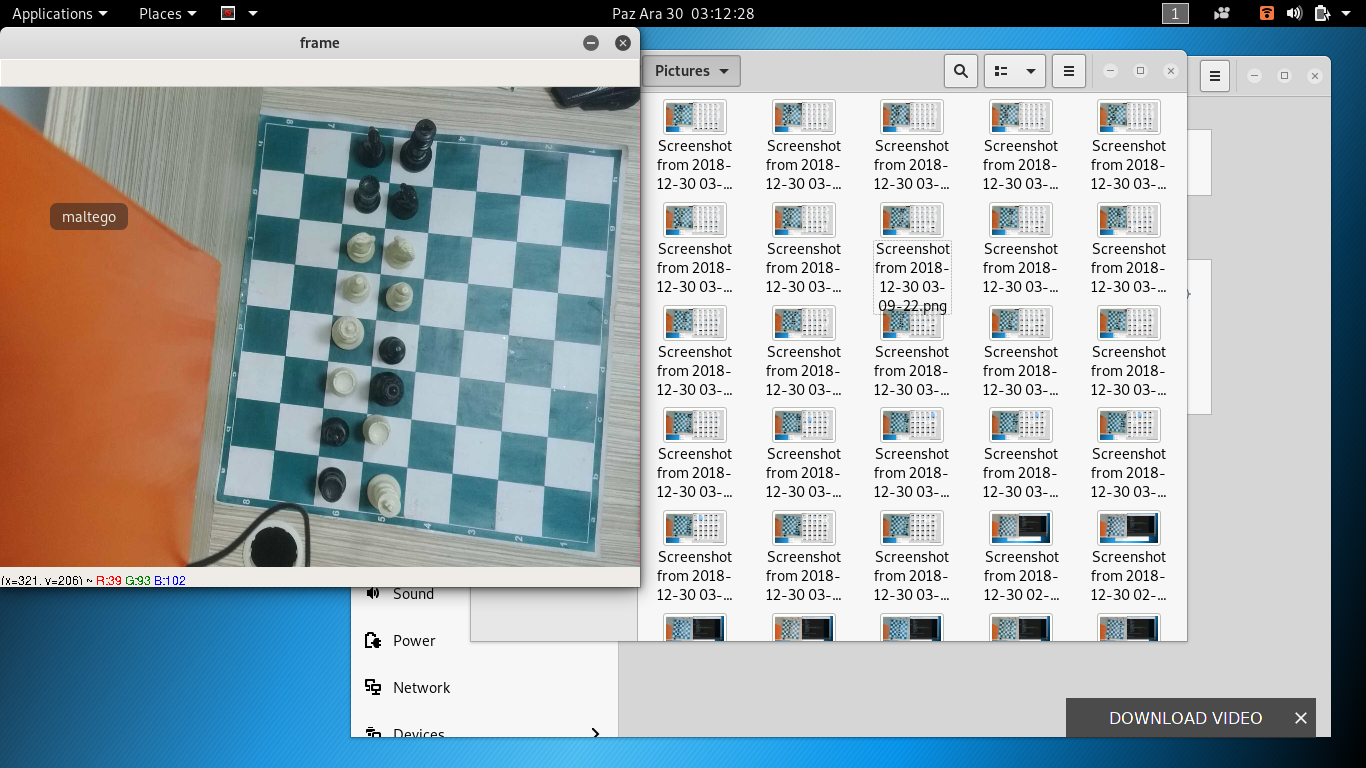BeyazAt: (345, 230, 378, 264), (387, 235, 416, 271)
BeyazFil: (342, 271, 371, 302), (388, 283, 414, 310)
BeyazKale: (362, 413, 392, 446), (329, 367, 357, 393)
BeyazSah: (367, 473, 402, 517)
BeyazVezir: (330, 314, 366, 351)
SiyahAt: (354, 126, 387, 165), (389, 183, 419, 220)
SiyahFil: (378, 334, 411, 365), (322, 417, 348, 446)
SiyahKale: (353, 176, 382, 210), (319, 466, 347, 500)
SiyahSah: (402, 121, 435, 172)
SiyahVezir: (370, 370, 406, 406)
